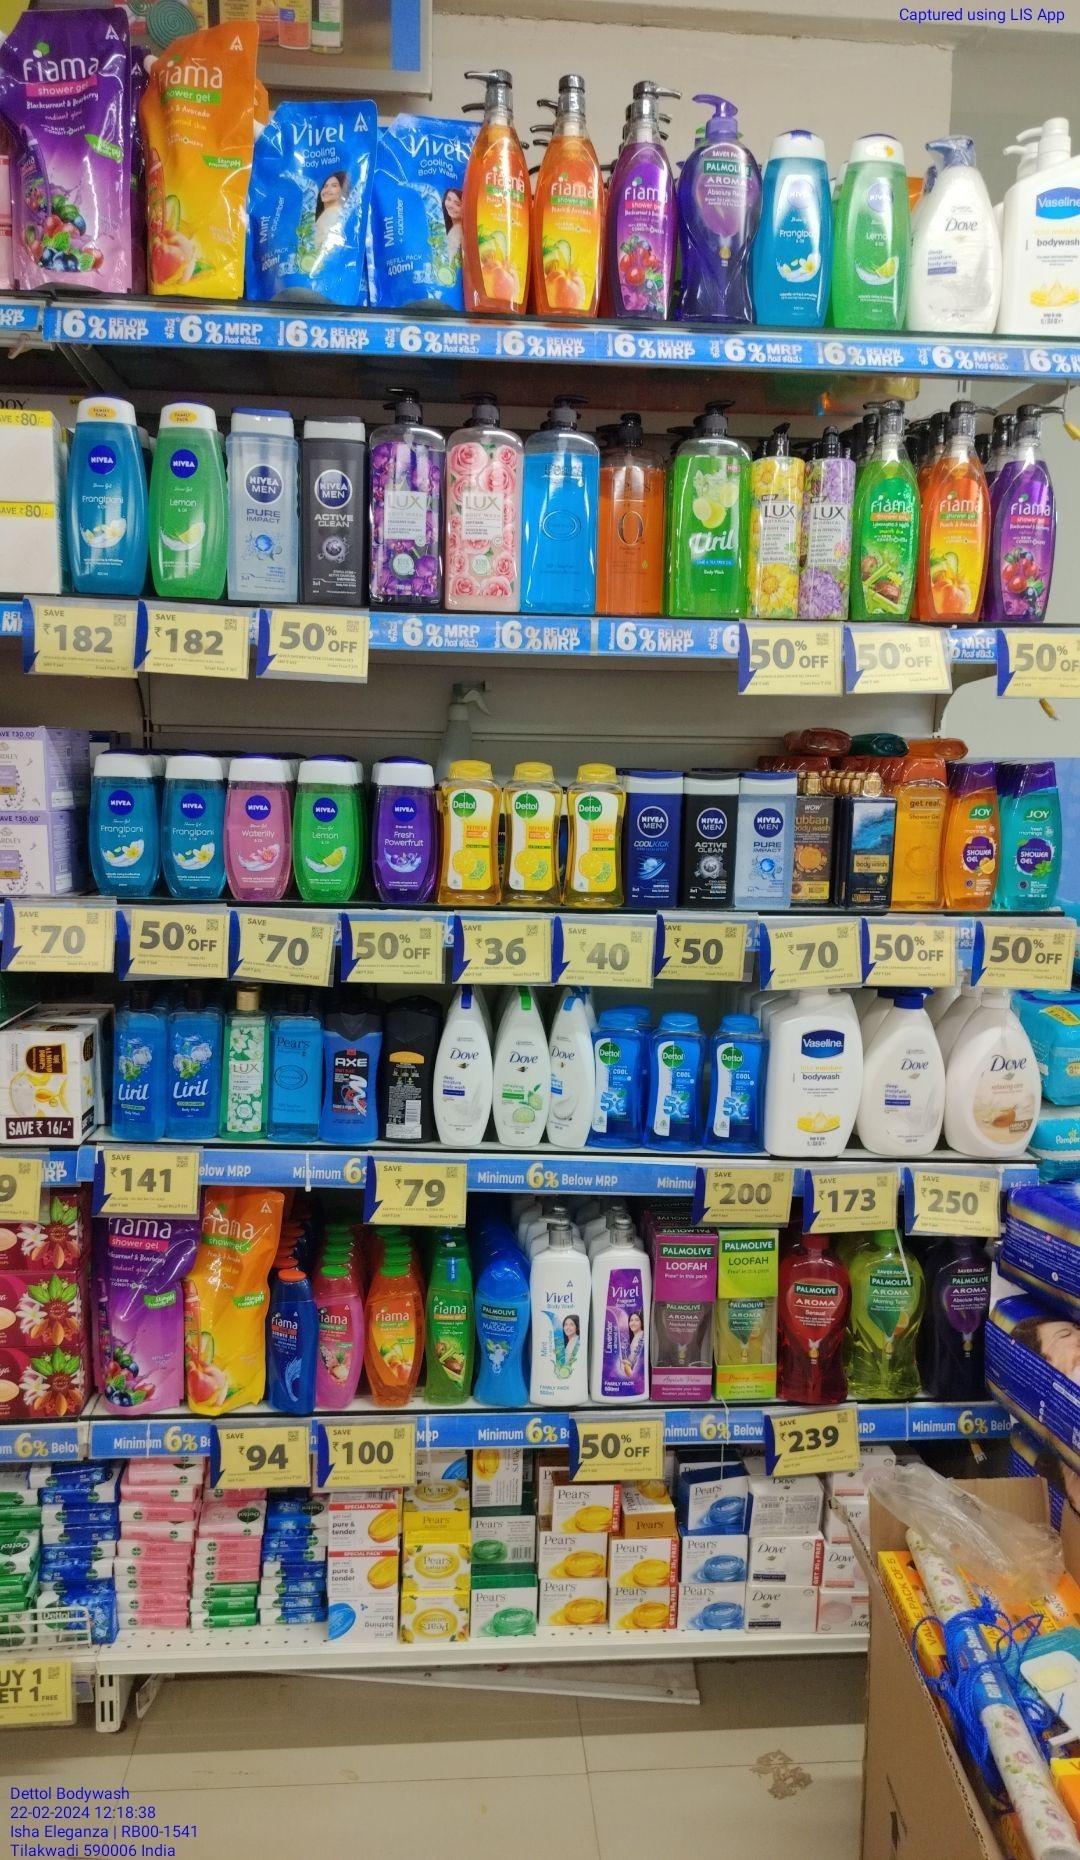Dettol_Bodywash_Cool: (706, 1014, 765, 1157), (648, 1014, 703, 1154), (590, 1017, 647, 1148)
Dettol_Bodywash_Refresh: (440, 761, 498, 906), (504, 766, 562, 909), (567, 762, 622, 908)
Dove_Deep_Moisture_Body_Wash_250ML: (437, 997, 489, 1147)
Dove_Gentle_Exfoliating_Body_Wash_250ML: (549, 1003, 586, 1149)
Dove_Refreshing_Body_Wash_250ML: (494, 999, 543, 1150)
Fiama_Shower_Gel_Patchouli_and_Macadamia_250ML: (314, 1270, 357, 1409)
Fiama_Shower_Gel_Peach_and_Avocado_250ML: (365, 1270, 426, 1411)
Get_Real_Shower_Gel_Moisturising_Glycerin_300ML: (899, 753, 945, 911)
Joy_Shower_Gel_Mandarin_and_Lemongrass_250ML: (950, 766, 996, 910)
Joy_Shower_Gel_Mint_and_Eucalyptus_250ML: (1005, 761, 1058, 915)
Lux_Body_Wash_Skin_Detox_Freesia_Scent_and_Alove_Vera_245ML: (220, 988, 265, 1143)
Nivea_Shower_Gel_Frangipani_and_Oil_250ML: (66, 392, 148, 598), (753, 125, 832, 330), (89, 751, 153, 899), (161, 756, 220, 901)
Nivea_Shower_Gel_Fresh_Powerfruit_250ML: (377, 761, 427, 901)
Nivea_Shower_Gel_Lemon_and_Oil_250ML: (833, 136, 914, 332), (154, 398, 226, 599), (293, 757, 354, 904)
Nivea_Shower_Gel_Waterlily_and_Oil_250ML: (226, 756, 285, 901)
Palmolive_Aroma_Moments_Feel_The_Massage_Shower_Gel_250ML: (472, 1266, 526, 1406)
